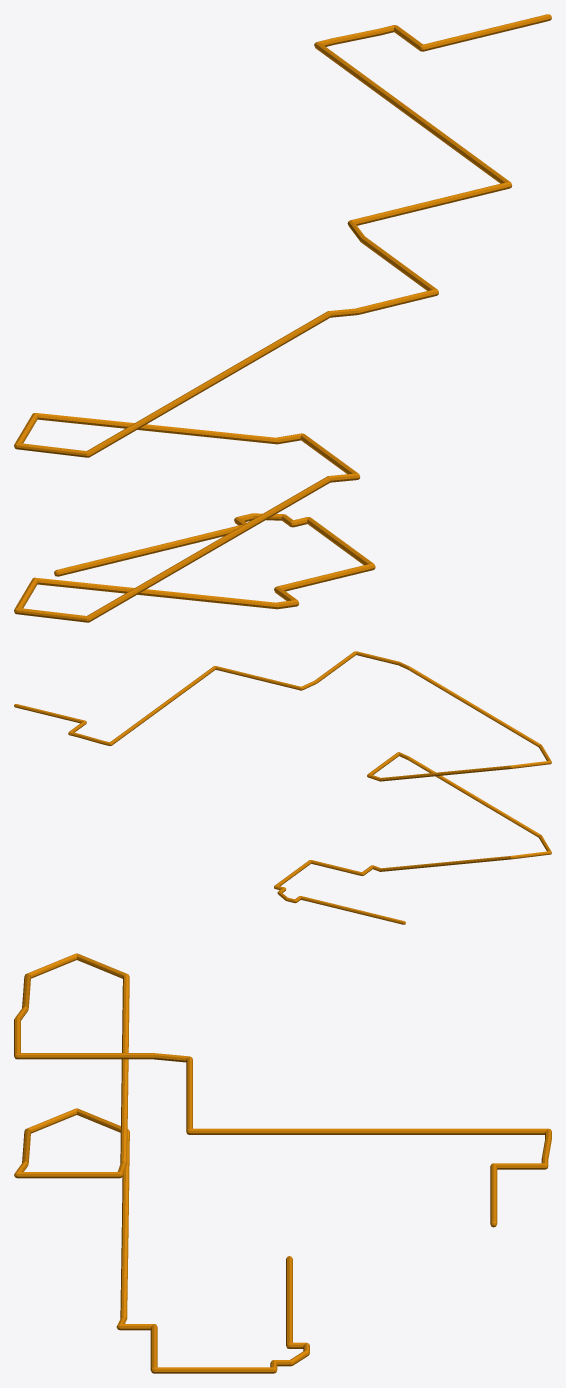
3 views of the same model, one above another, from view 1: azimuth 30°, elevation 25°; view 2: azimuth 150°, elevation 25°; view 3: azimuth 270°, elevation 25° (orthographic). The views are drawn at different scales.
Size of the model in its own units: 2409 by 1020 by 1574.
